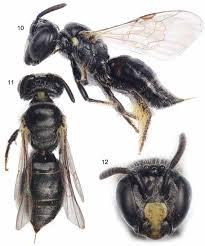Braunsapis: (26, 1, 205, 135), (6, 69, 85, 237), (93, 128, 200, 240)
